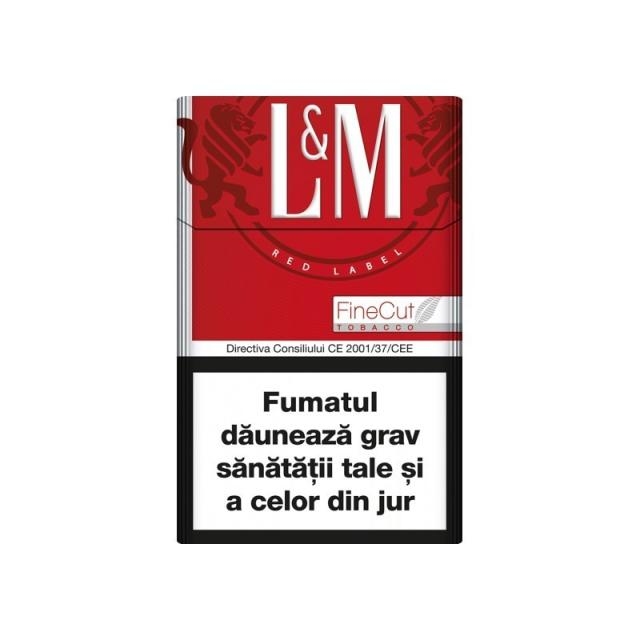lm: (179, 97, 462, 552)
